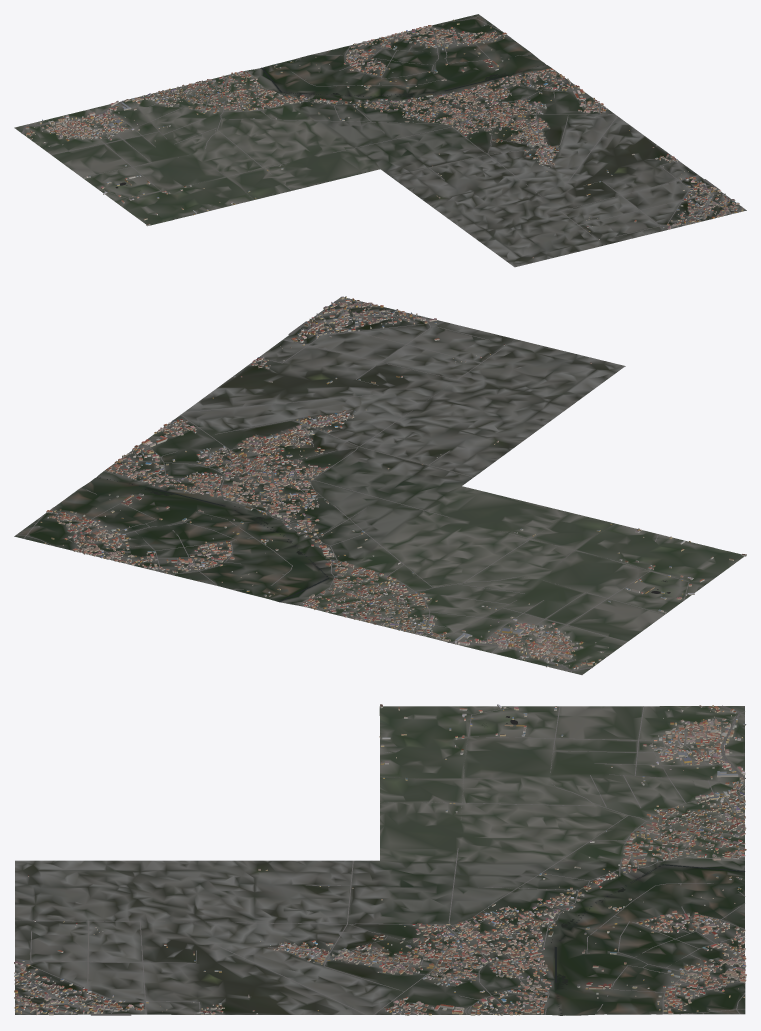
The picture shows the model from 3 angles, top to bottom: view 1: azimuth 30°, elevation 25°; view 2: azimuth 150°, elevation 25°; view 3: azimuth 270°, elevation 25°; orthographic projection. The views are drawn at different scales.
Visible parts, largest first — view 1: ground, buildings, roads; view 2: ground, buildings, roads; view 3: ground, buildings, roads, water.
Boxes of the visible parts, x1,y1,x2,y2 form: ground: (14, 14, 746, 267); buildings: (25, 19, 743, 257); roads: (21, 15, 742, 240); ground: (14, 296, 744, 674); buildings: (37, 296, 746, 669); roads: (16, 298, 689, 672); ground: (15, 706, 745, 1015); buildings: (14, 704, 746, 1015); roads: (15, 705, 745, 1015); water: (482, 716, 744, 1015).
Size of the model in its own units: 2820 by 20.48 by 2814.
